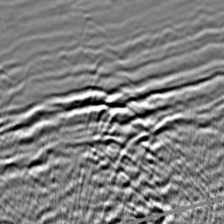cavities: (54, 85, 180, 157)
